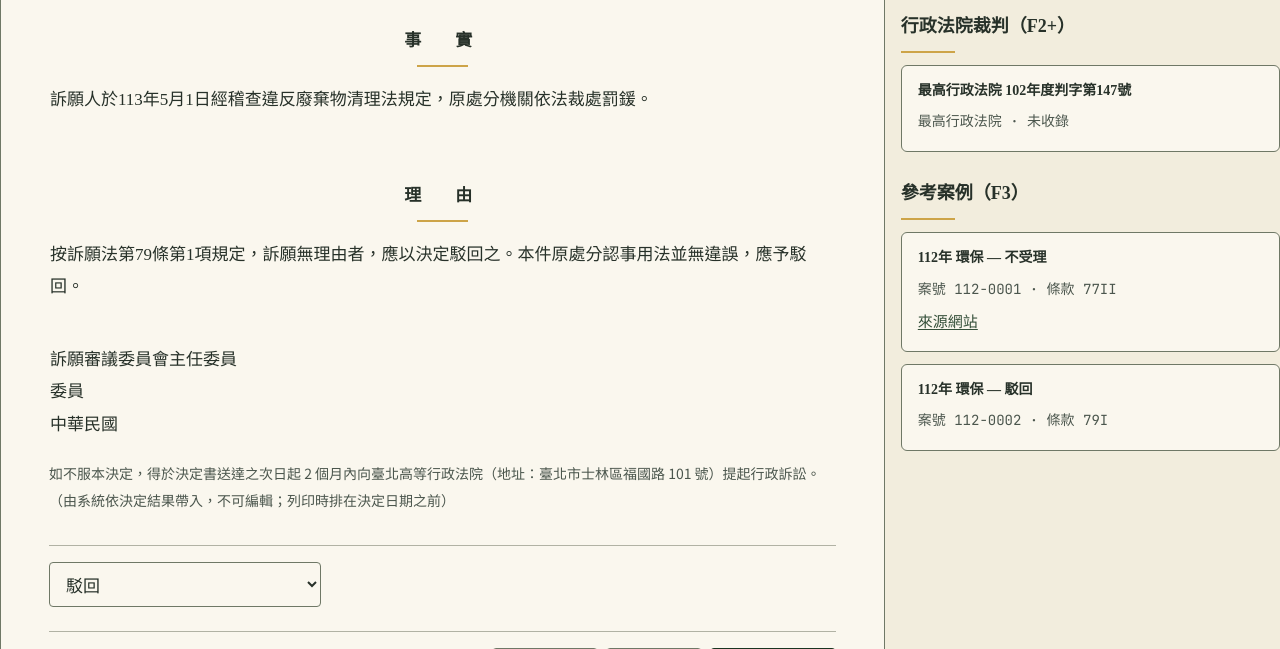
決定書草稿分段 › 儲存失敗(版本衝突)時畫面顯示錯誤，理由格保留剛打的字
(page scrolled)
Type "我打的字" into the text box named "理由" at (442, 271), box [49,230,836,311]
(page scrolled)
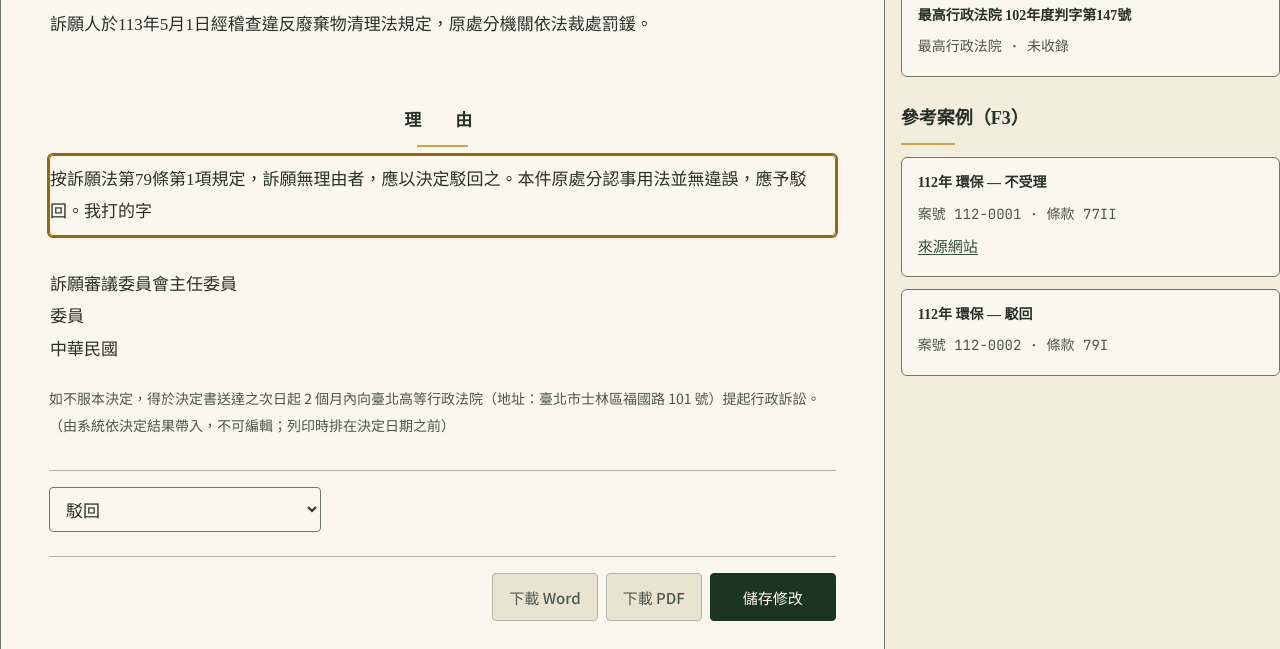
Click the button "儲存修改" at (773, 597), box [710,573,836,621]
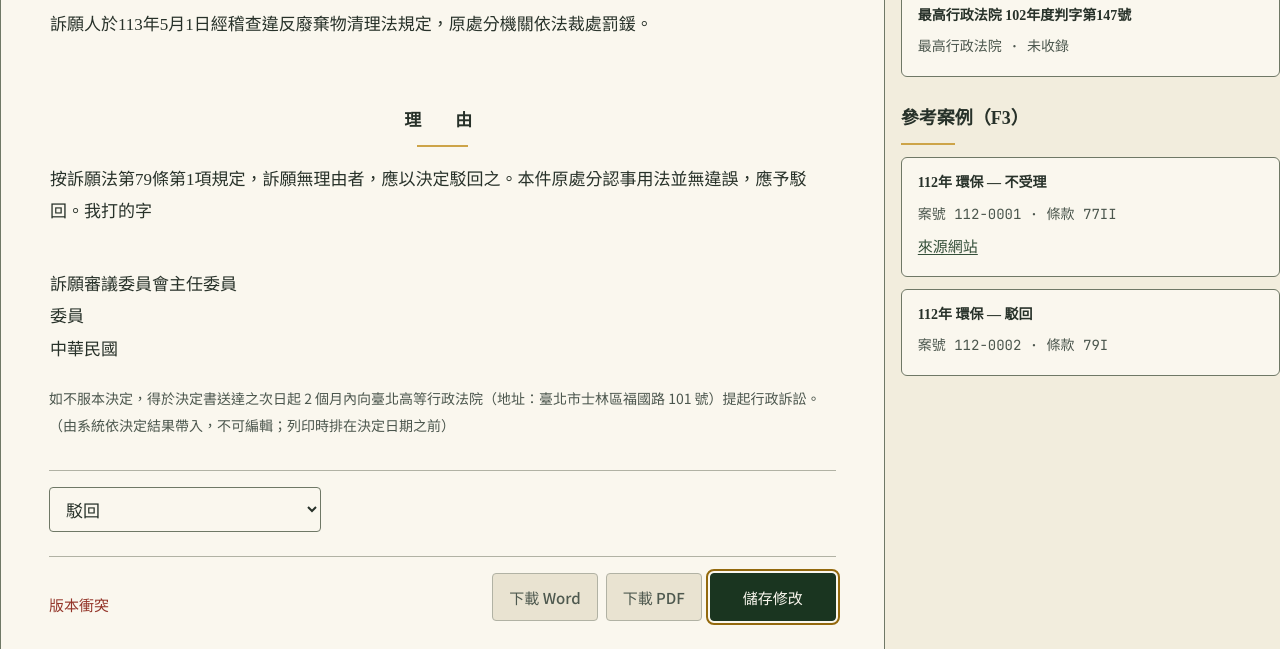
Expected: the text "版本衝突" is shown, [49,591,109,620]
